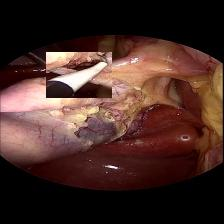Hook: (46, 51, 113, 97)
